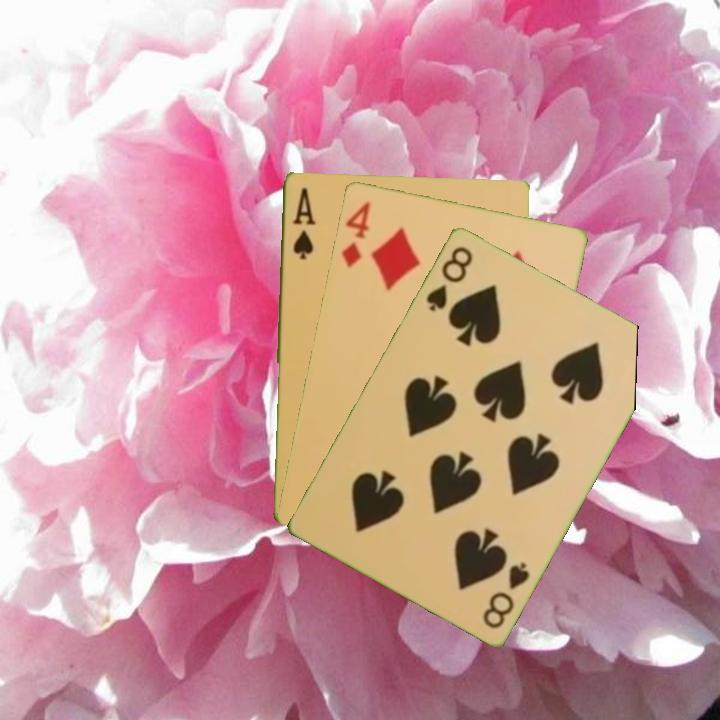4d: (337, 197, 373, 270)
8s: (479, 557, 533, 631), (422, 242, 476, 314)
As: (288, 183, 318, 262)
